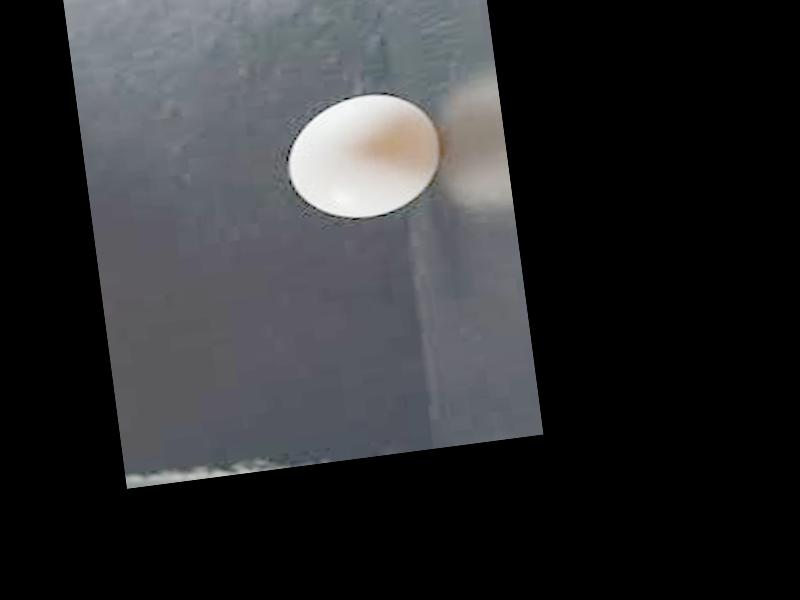Eggs: (277, 86, 446, 225)
